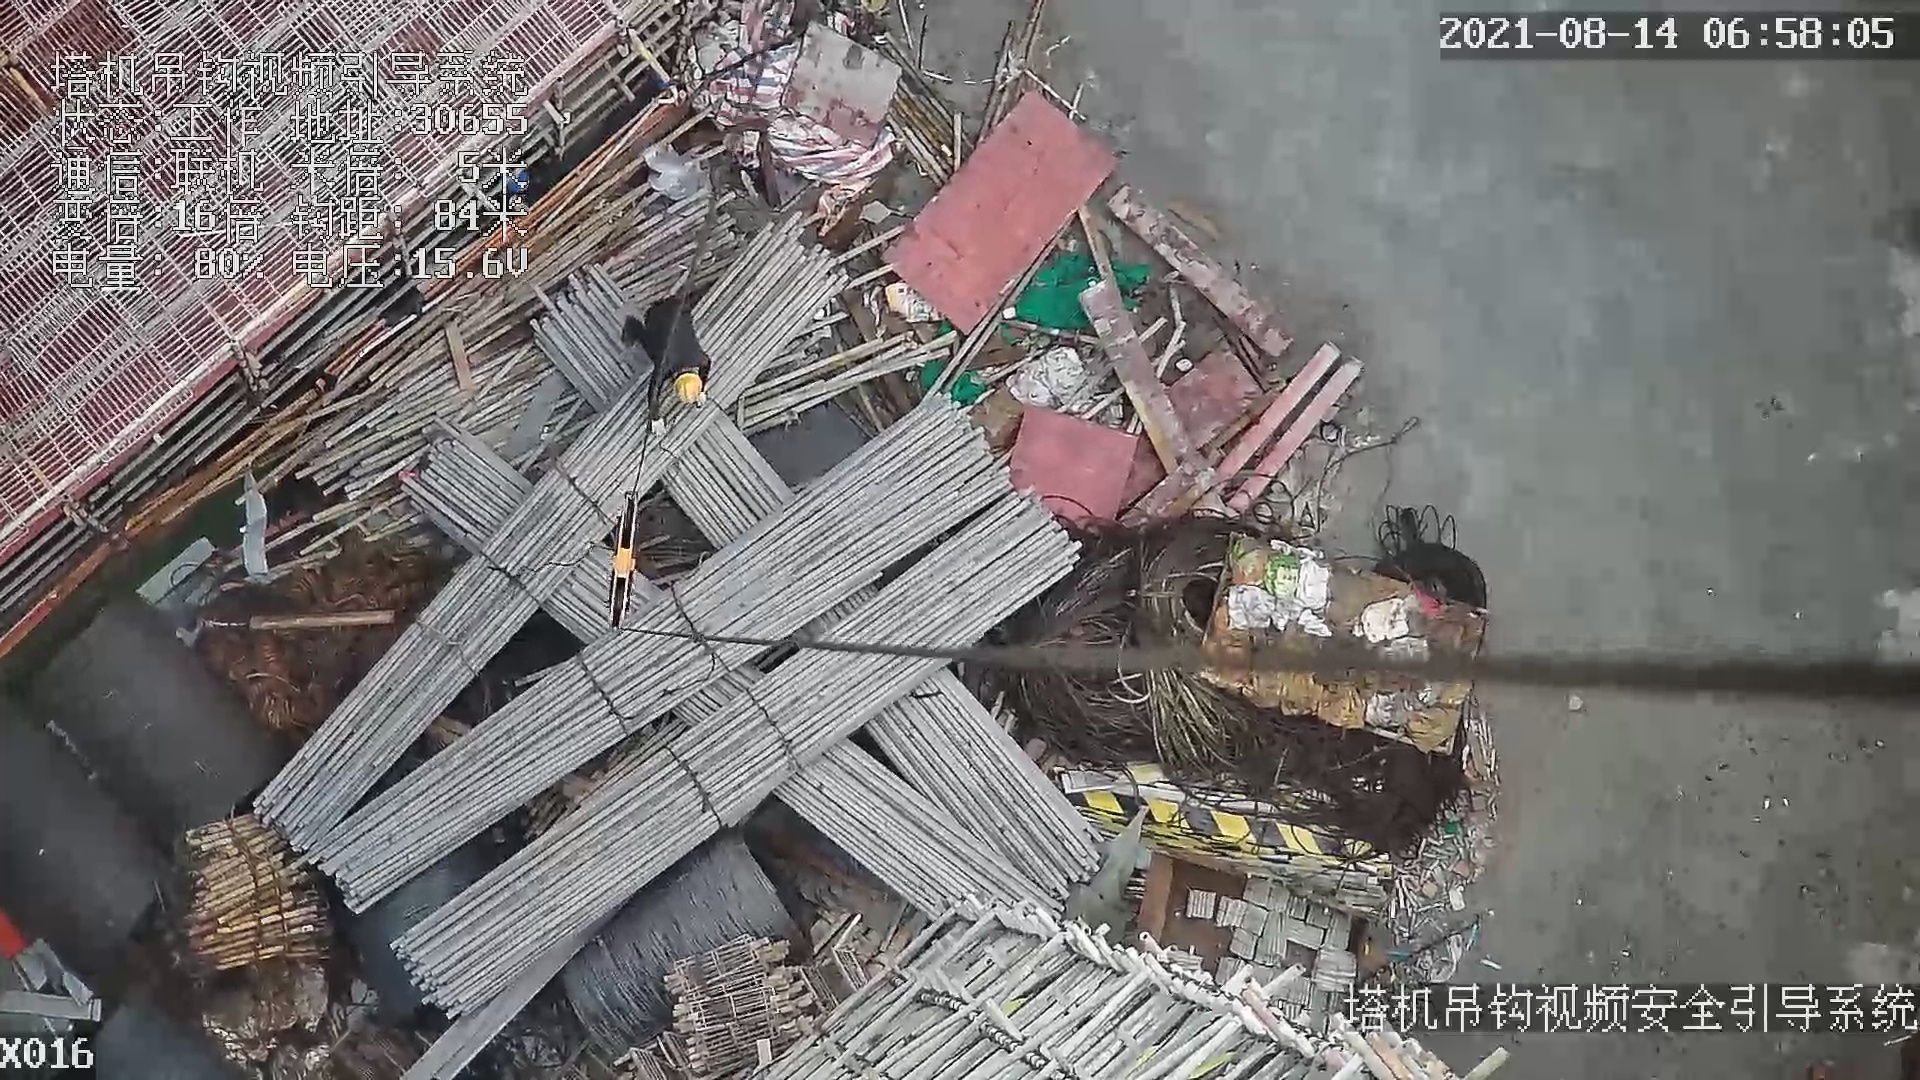helmet: (673, 373, 702, 403)
hook: (608, 491, 651, 645)
person: (620, 296, 723, 433)
rebar: (251, 218, 844, 853), (300, 396, 1012, 910), (388, 491, 1075, 1018), (773, 737, 1075, 920), (866, 666, 1102, 892)
scaffold: (183, 812, 331, 974)
